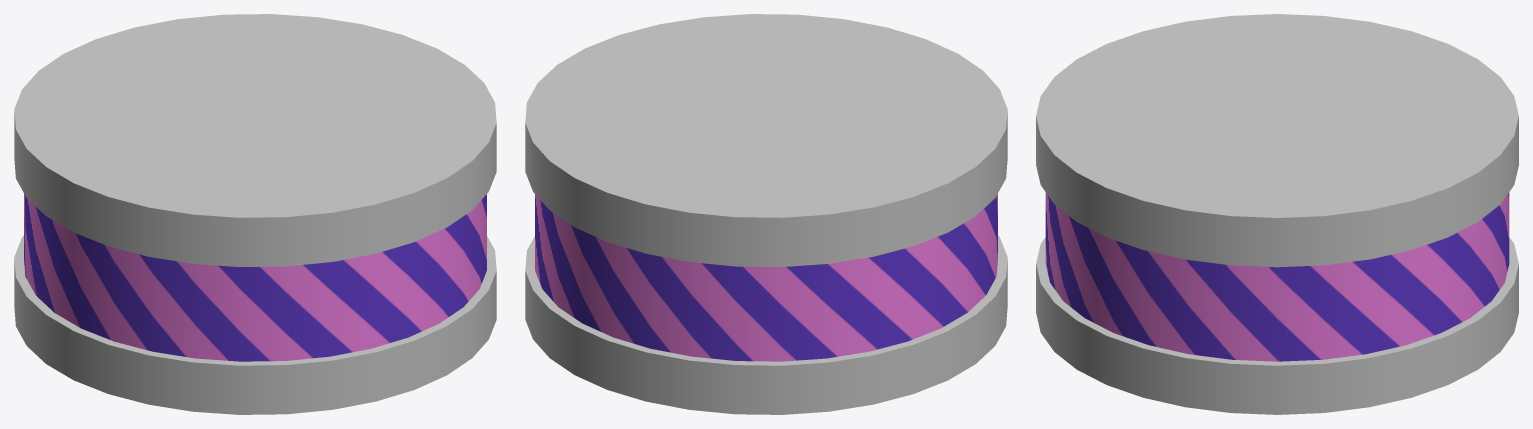
File: BLUE_CylinderA_move.fbx
3 views of the same model, side by side, from view 1: azimuth 30°, elevation 25°; view 2: azimuth 150°, elevation 25°; view 3: azimuth 270°, elevation 25° (orthographic).
Parts seen in each view (by area): view 1: BLUE_CylinderA_move, RotateMesh; view 2: BLUE_CylinderA_move, RotateMesh; view 3: BLUE_CylinderA_move, RotateMesh.
Part boxes in pixels (x1=…): BLUE_CylinderA_move: x1=14, y1=14, x2=496, y2=414; RotateMesh: x1=24, y1=194, x2=486, y2=361; BLUE_CylinderA_move: x1=525, y1=14, x2=1007, y2=414; RotateMesh: x1=535, y1=194, x2=997, y2=361; BLUE_CylinderA_move: x1=1036, y1=14, x2=1518, y2=414; RotateMesh: x1=1045, y1=192, x2=1509, y2=361.
Size of the model in its own units: 60 by 27 by 60.
